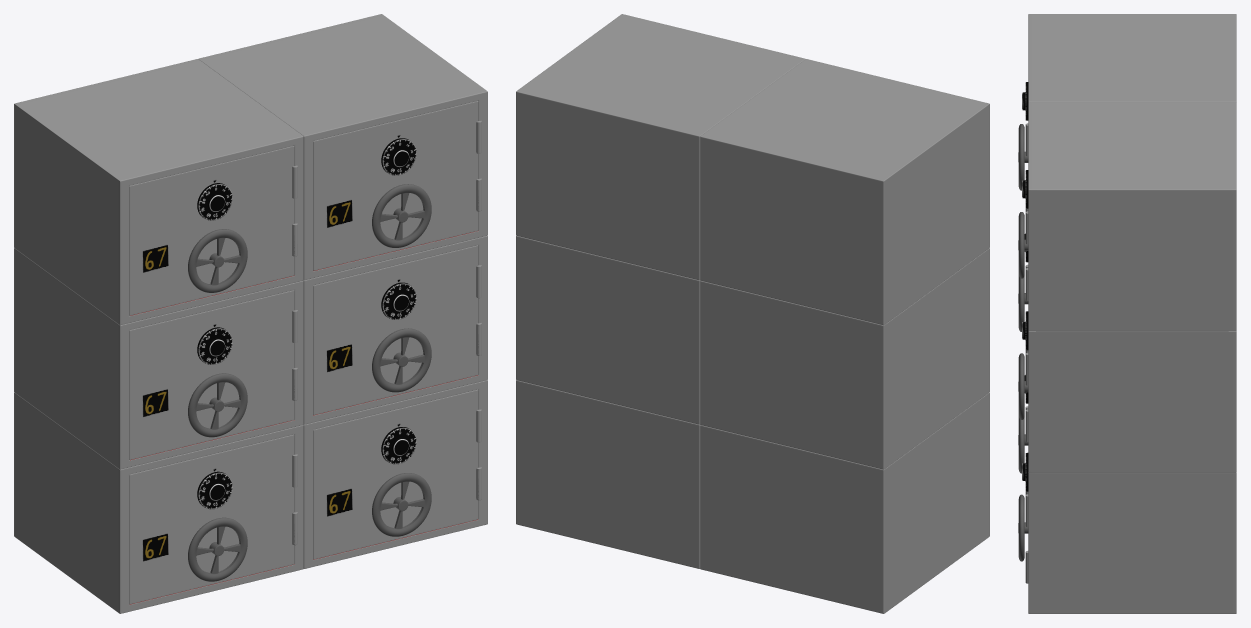
The model's file is Safe_Wall_Module.fbx.
3 renders of one model, left to right at view 1: azimuth 30°, elevation 25°; view 2: azimuth 150°, elevation 25°; view 3: azimuth 270°, elevation 25°, orthographic. The views are drawn at different scales.
Parts seen in each view (by area): view 1: Safe_Door (×6), Safe_Case (×6); view 2: Safe_Case (×6); view 3: Safe_Case (×4), Safe_Door (×6).
Part boxes in pixels (x1,y1,x2,y2): Safe_Door (×6): (129, 101, 481, 604); Safe_Case (×6): (14, 14, 487, 613); Safe_Case (×6): (516, 14, 989, 613); Safe_Case (×4): (1028, 14, 1236, 613); Safe_Door (×6): (1018, 82, 1028, 583).
Size of the model in its own units: 2 by 2.25 by 1.05.
Materials: 2 (2 with a texture image).
